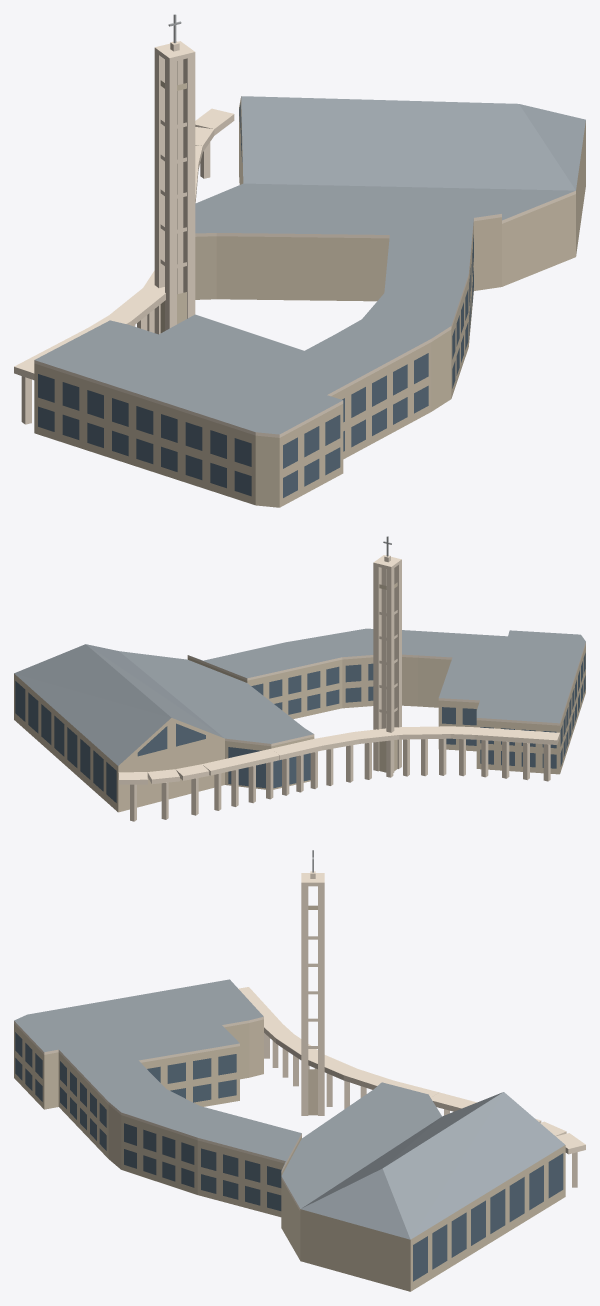
The model's file is clt-first-baptist.glb.
The picture shows the model from 3 angles, top to bottom: view 1: azimuth 30°, elevation 25°; view 2: azimuth 150°, elevation 25°; view 3: azimuth 270°, elevation 25°; orthographic projection. The views are drawn at different scales.
Visible parts, largest first — view 1: First Baptist Church Charlotte; view 2: First Baptist Church Charlotte; view 3: First Baptist Church Charlotte.
Boxes of the visible parts, x1=… form: First Baptist Church Charlotte: x1=14, y1=14, x2=585, y2=507; First Baptist Church Charlotte: x1=14, y1=536, x2=585, y2=821; First Baptist Church Charlotte: x1=14, y1=850, x2=585, y2=1291.
Bounding box in the file's own units: 125 × 59 × 117.
